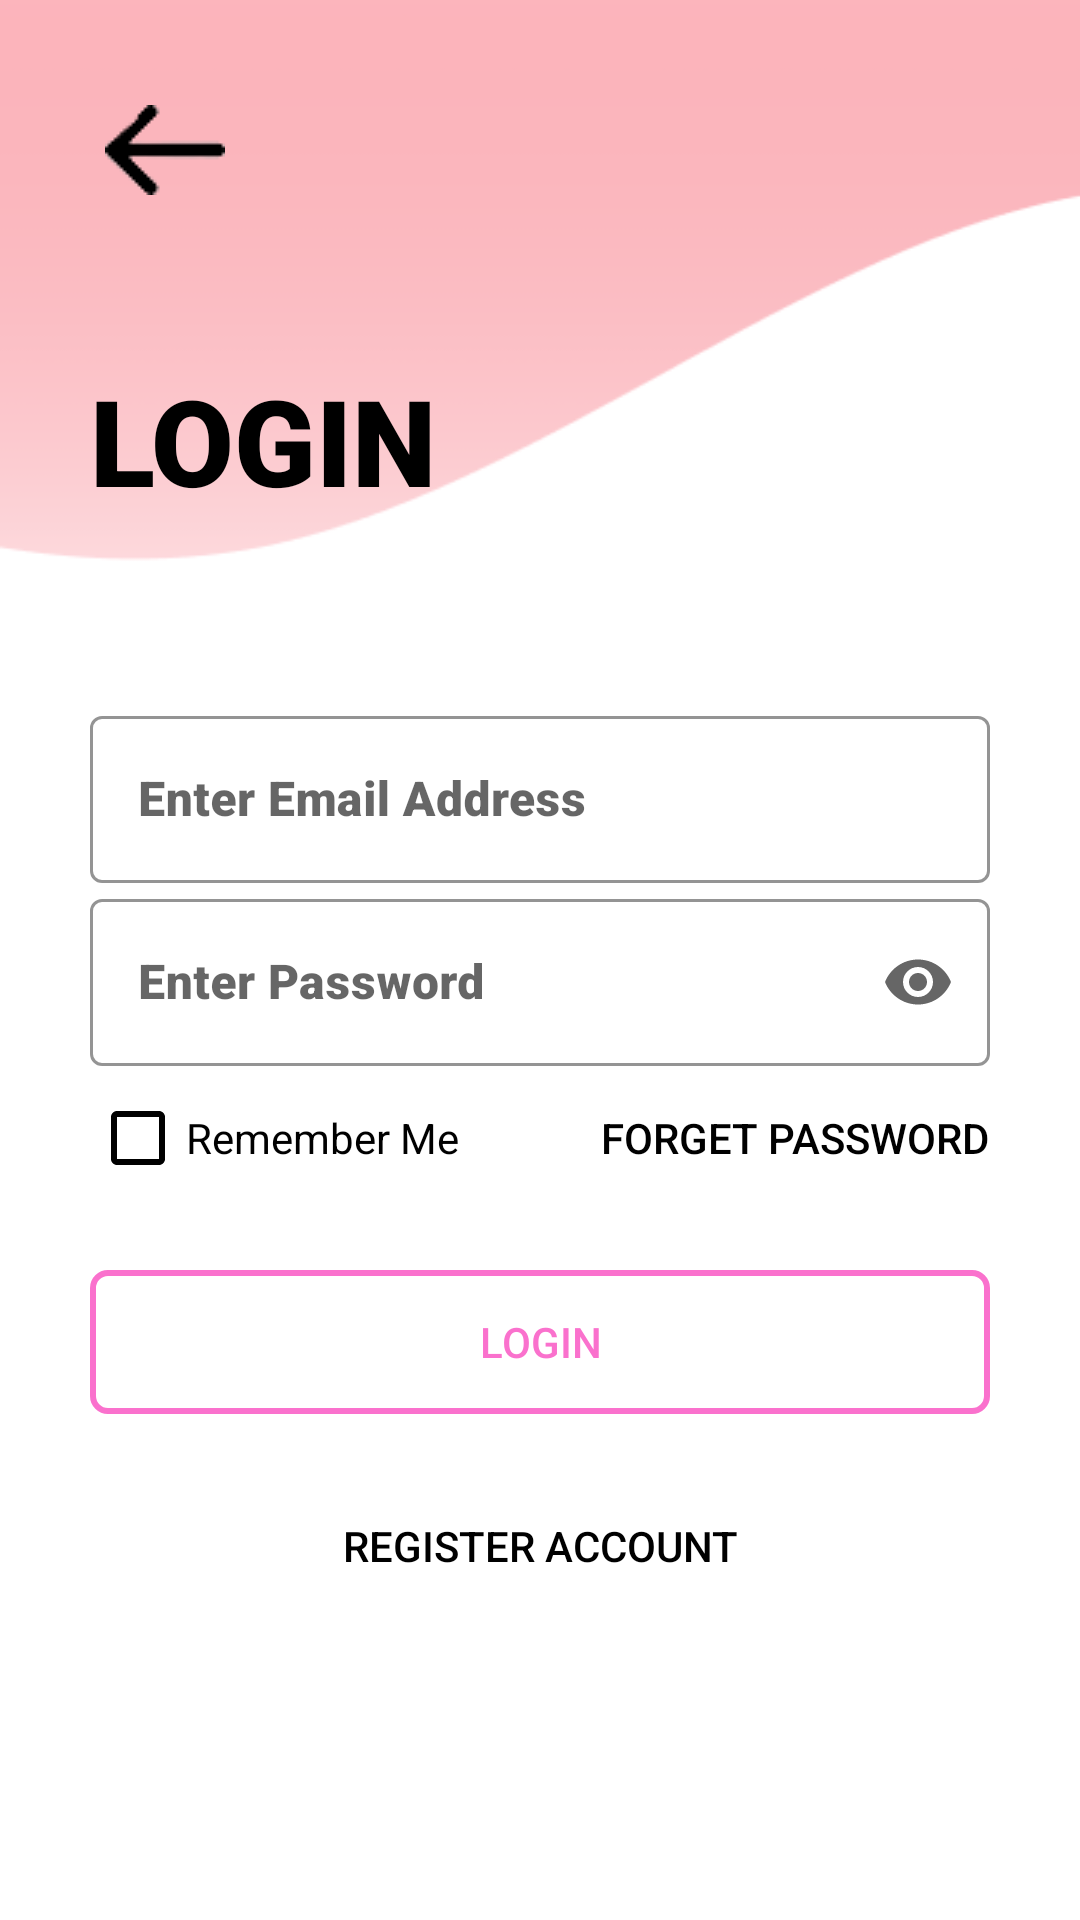

Point at icon controls on the screen. Image size 1080*1920, points as [x,y].
back: [165,150]
